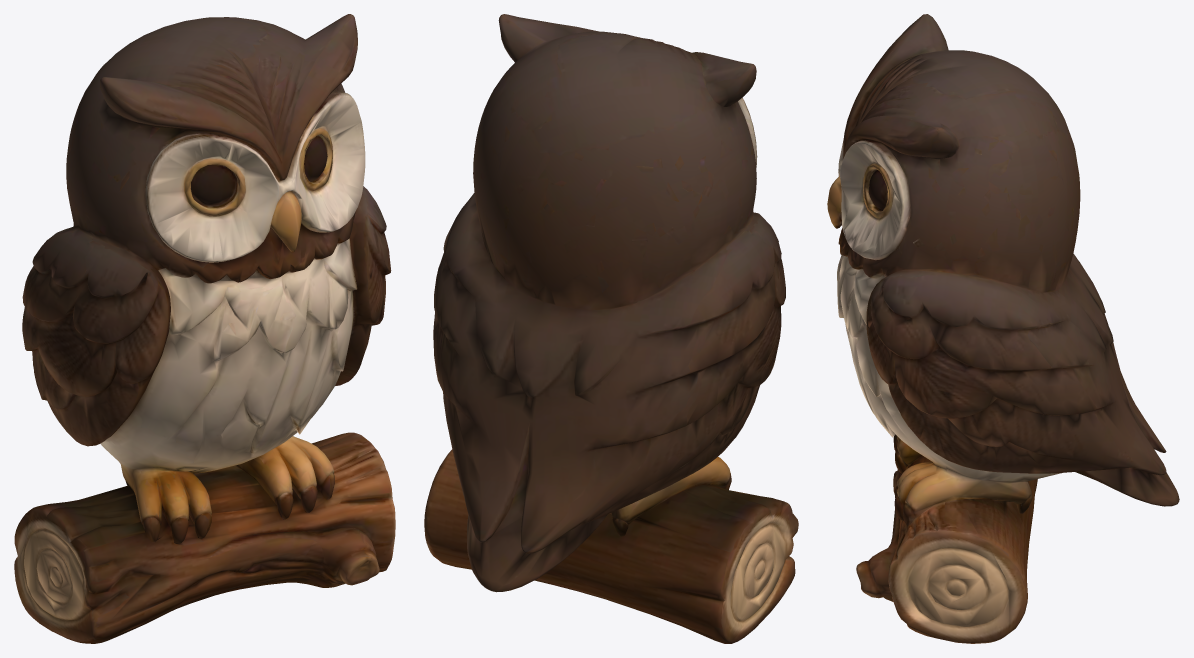
3 views of the same model, side by side, from view 1: azimuth 30°, elevation 25°; view 2: azimuth 150°, elevation 25°; view 3: azimuth 270°, elevation 25° (orthographic). The views are drawn at different scales.
Visible parts, largest first — view 1: node_0; view 2: node_0; view 3: node_0.
Part boxes in pixels (left/top/right/bottom): node_0: left=14, top=14, right=395, bottom=643; node_0: left=424, top=14, right=798, bottom=643; node_0: left=827, top=14, right=1179, bottom=643.
Bounding box in the file's own units: 0.6201 × 1.04 × 0.6529.
Materials: 1 (1 with a texture image).
